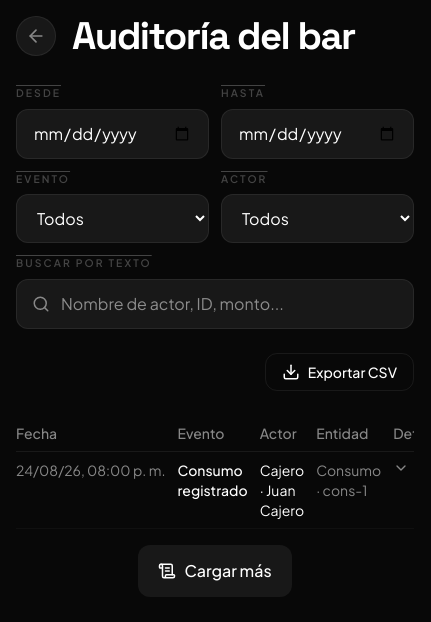
Test: BarAuditLogView (LB-77) › loads the next page via the cursor when "Cargar más" is clicked
Click the button "Cargar más" at {"x": 215, "y": 571}, box [138,545,292,597]
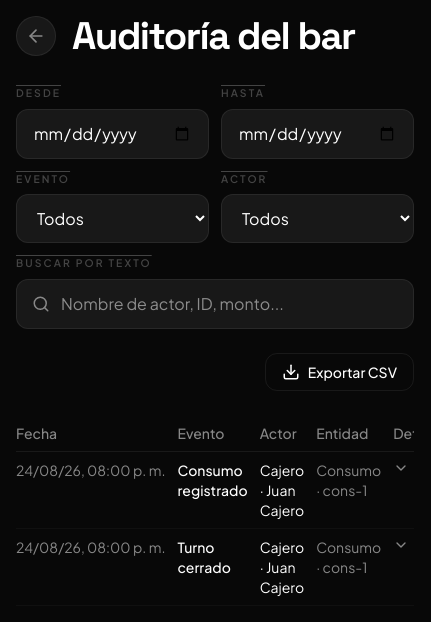
Result: the text "Turno cerrado" is shown at [177,528,260,606]
